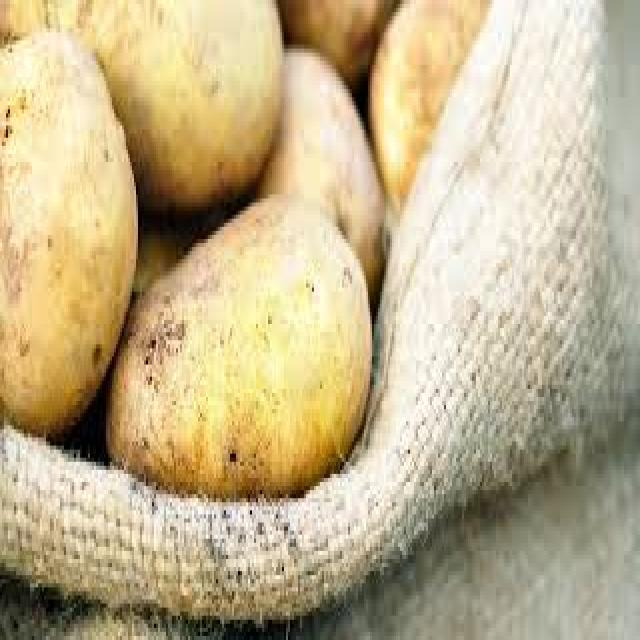Potato: (94, 198, 384, 513)
